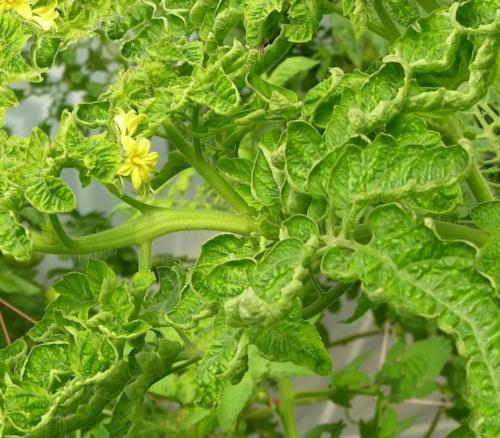Tomato leaf yellow virus: (312, 172, 500, 375), (318, 94, 483, 252), (133, 213, 283, 359), (229, 208, 352, 327), (253, 94, 372, 212), (224, 137, 312, 226), (13, 157, 91, 235), (177, 60, 253, 135), (0, 191, 60, 276), (219, 0, 311, 53)
